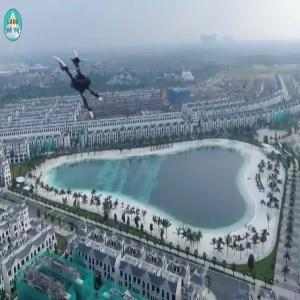drone: (36, 48, 112, 124)
